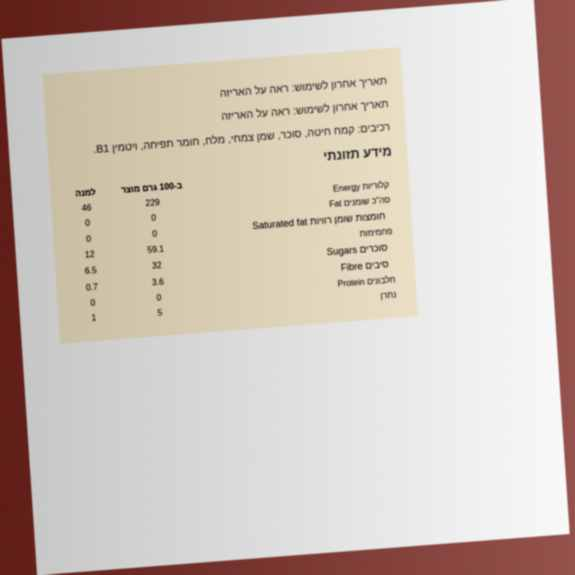carbs: (146, 243, 166, 256)
energy: (144, 196, 161, 209)
fat: (150, 212, 157, 224)
protein: (155, 292, 163, 303)
